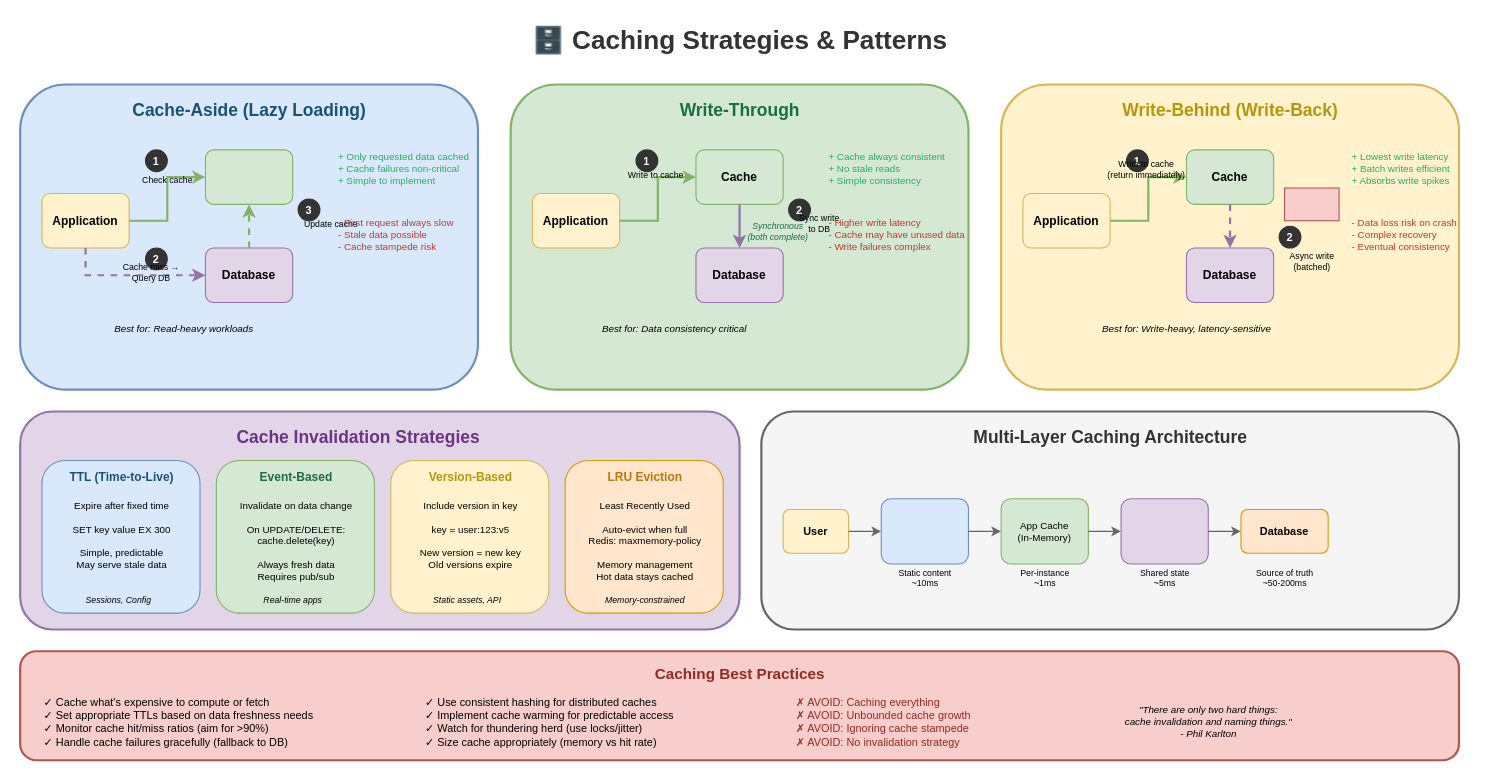
Some shapes in this 1499 by 779 pixel diagram are drawn without their labels. Each missing label, with the centre of its shape:
Cache (Redis): the point at 248,176
CDN (Edge Cache): the point at 924,531
Distributed Cache (Redis): the point at 1164,531
Queue: the point at 1311,204
